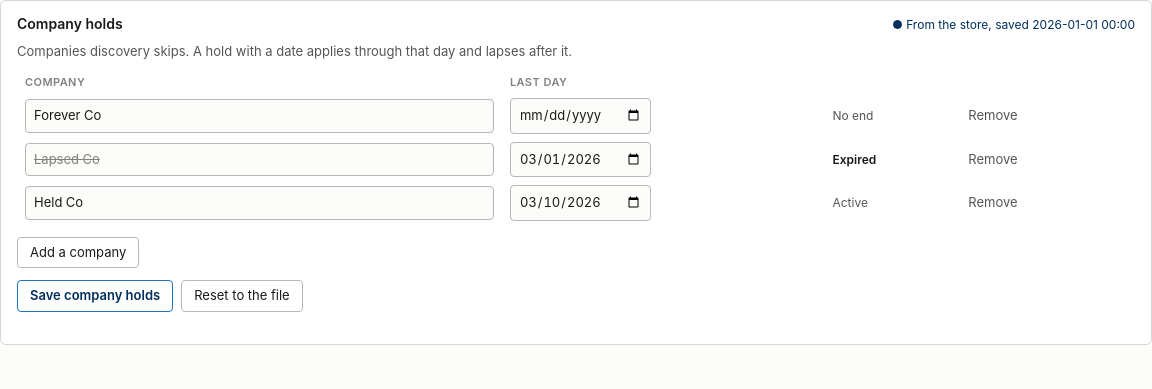
Test case: a refused hold keeps the rows as typed
Type " Ltd" into the field named "Company, Forever Co".
click(259, 116); type(" Ltd")  # box [25,99,494,132]
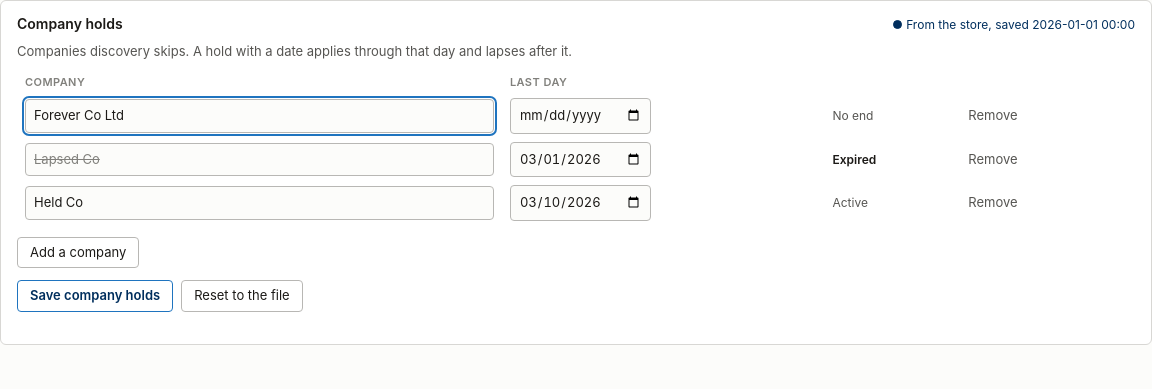
Click the button "Save company holds".
click(95, 296)  # box [17,280,173,312]
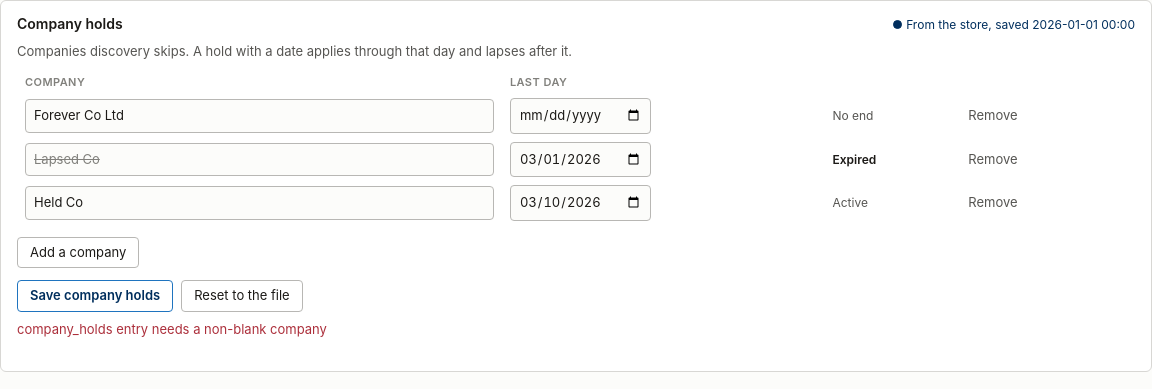
Result: the field named "Company, Forever Co Ltd" holds "Forever Co Ltd" at [25,99,494,132]
Result: the message "company_holds entry needs a non-blank company" is shown at [17,320,327,336]
